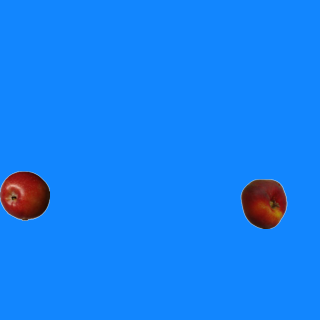Apple Braeburn: (0, 170, 49, 220)
Nectarine Flat: (238, 178, 288, 228)
